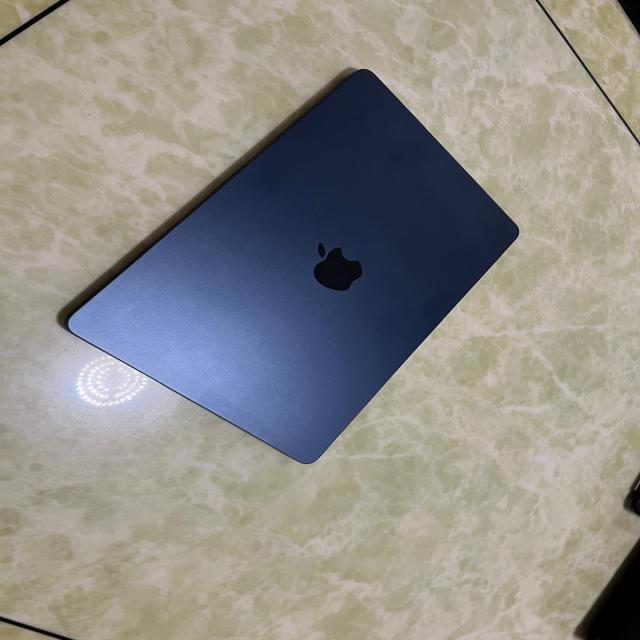laptop: (65, 66, 519, 464)
